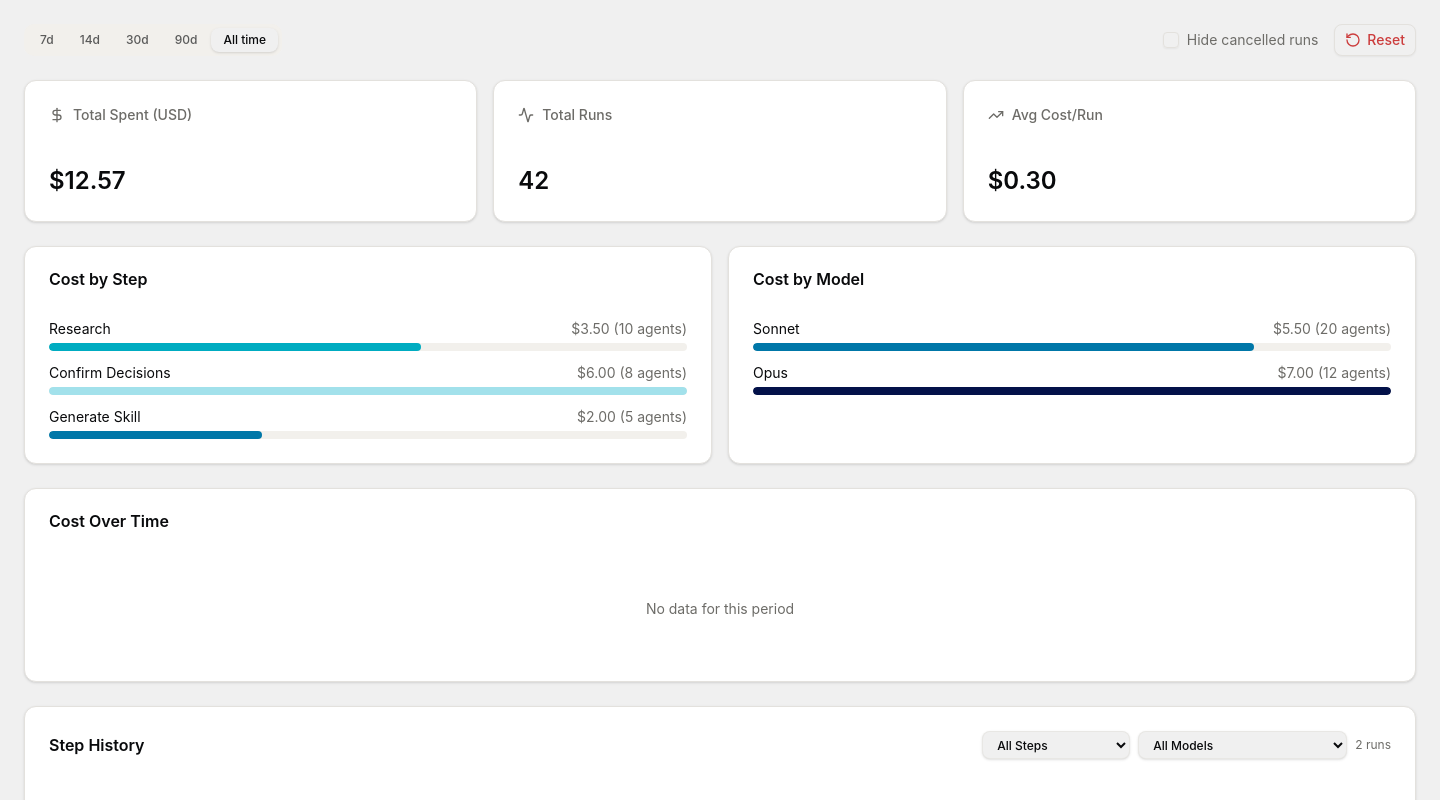
Scenario: UsagePage › reset button shows confirmation dialog
The image size is (1440, 800).
Click the button "Reset" at (1375, 40), box [1334,24,1416,56]
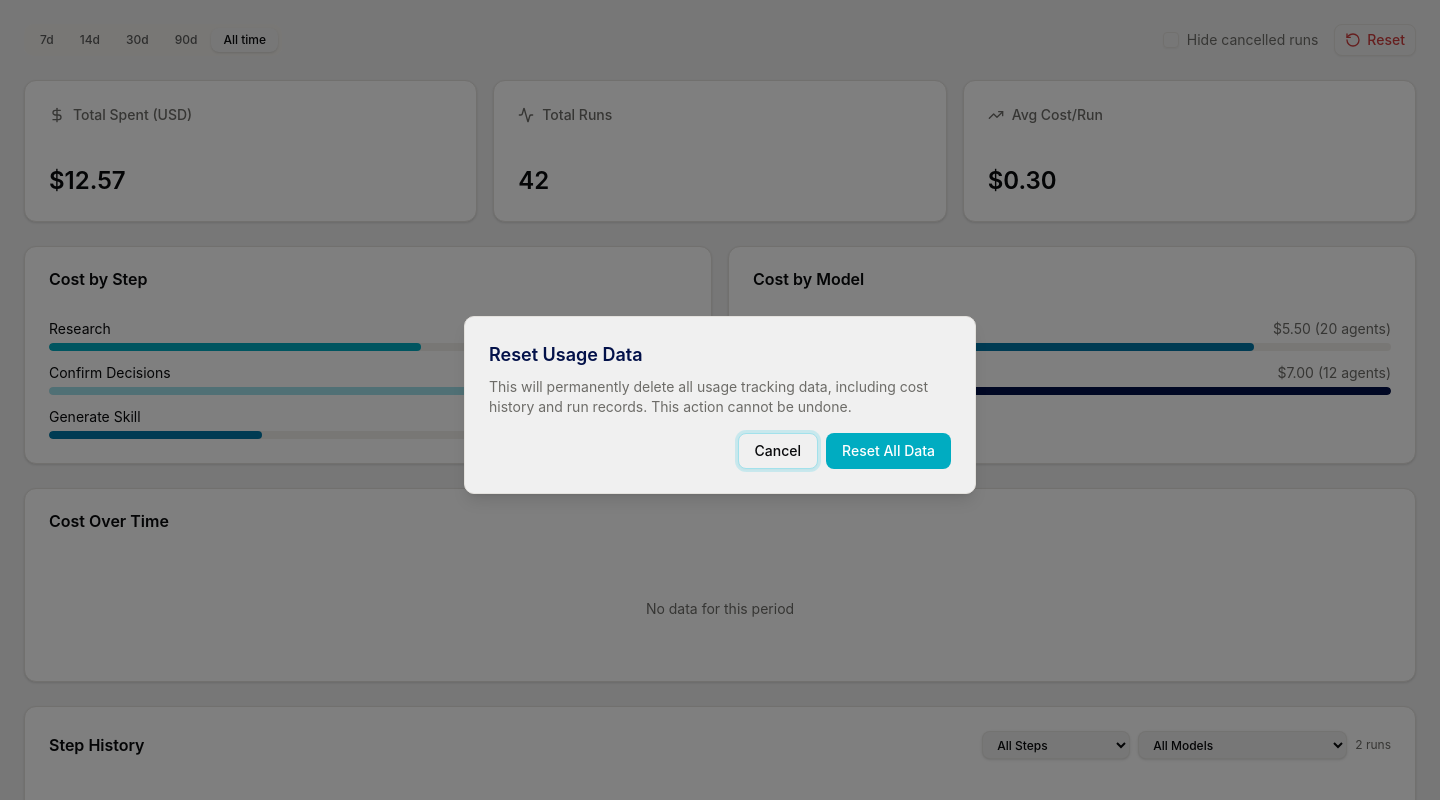
Expected: the heading "Reset Usage Data" is shown, [489,344,643,365]
Expected: the text "permanently delete all usage tracking data" is shown, [489,378,928,415]
Expected: the button "Cancel" is shown, [738,433,818,469]
